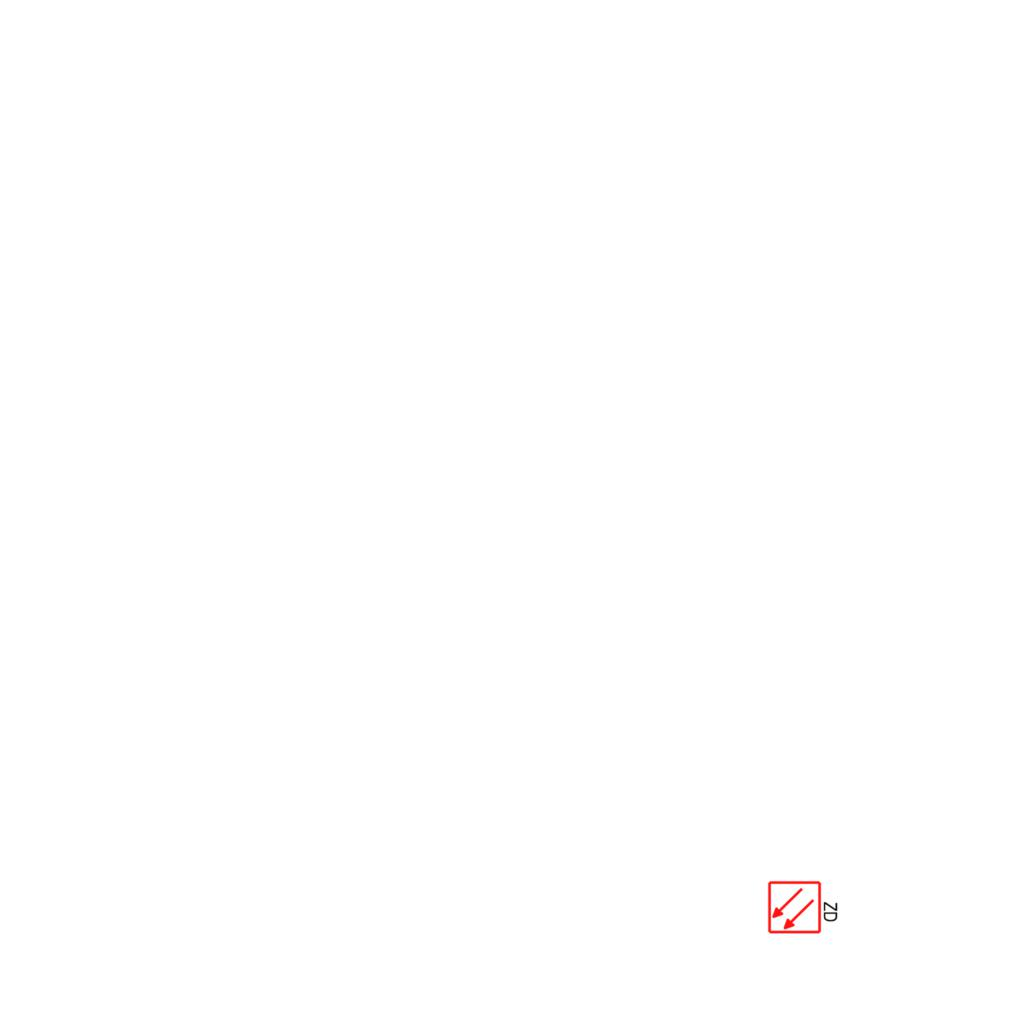ZD_Melder_in_Zwischendecke_mit_Revisionsoeffnung_mind_40_x_40_cm: (767, 878, 841, 935)
